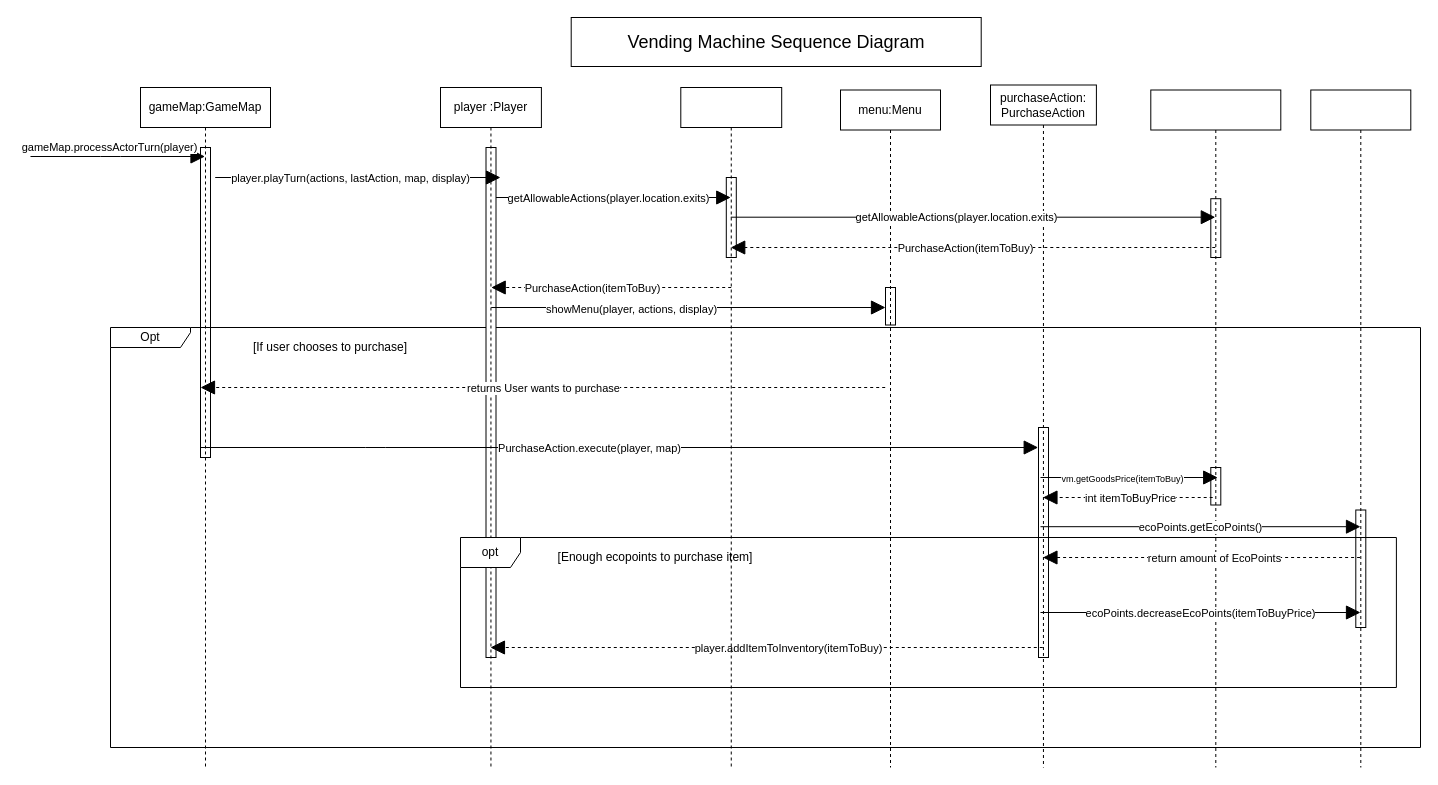
This 1438x785 diagram has some shape labels left out. The shapes that lost their labels are listed below. From the top down, each one's box as (x1, y1, x2, y2) in pixels, then its label:
(680, 86, 782, 768): location:Location
(1150, 89, 1281, 768): vm :VendingMachine
(1310, 89, 1411, 768): ecoPoints :EcoPoints
